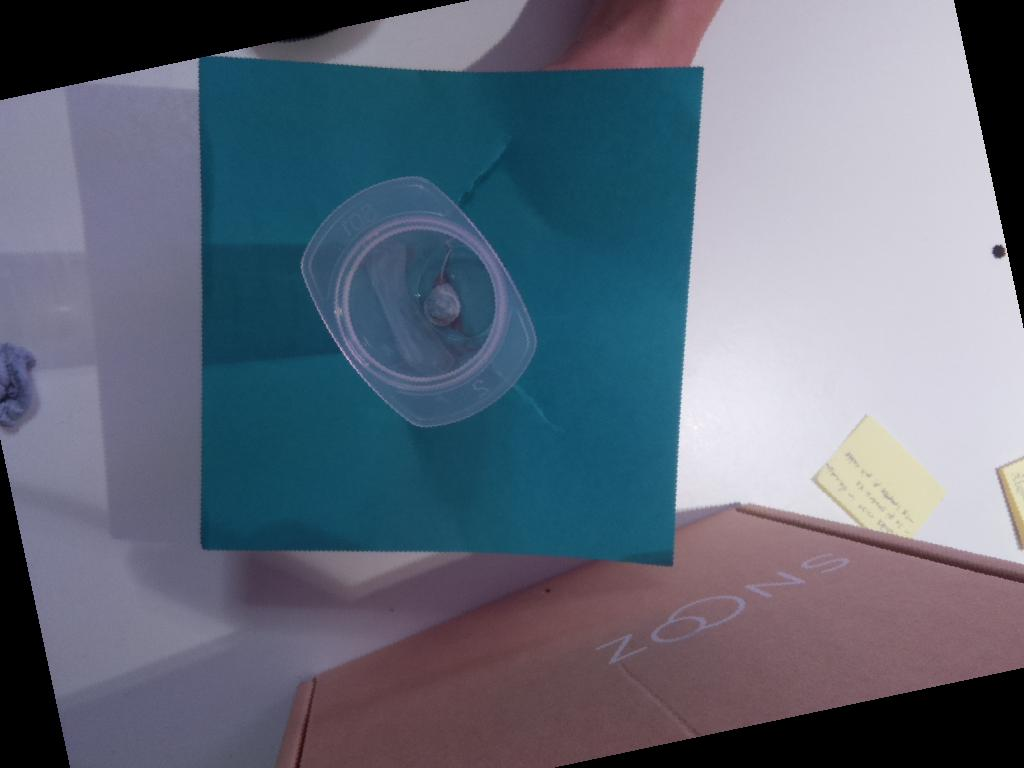clean: (300, 174, 538, 428)
